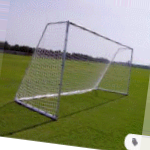goals: (13, 19, 135, 121)
